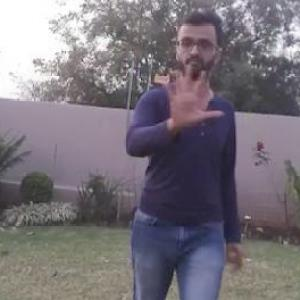follow_hand: (161, 61, 225, 131)
